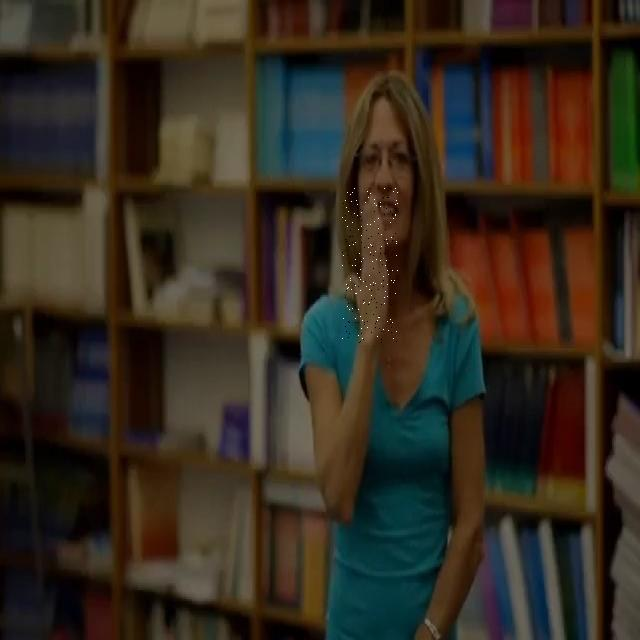napkin: (342, 186, 398, 344)
